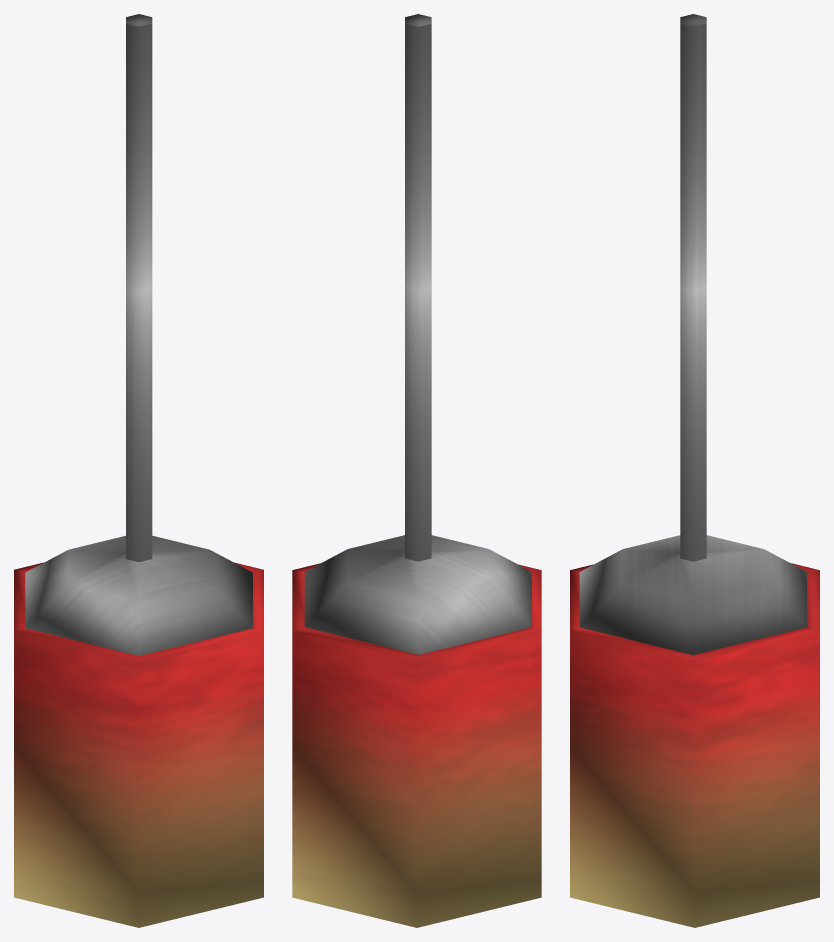
Rendered from Pendant_Light_C.FBX.
3 views of the same model, side by side, from view 1: azimuth 30°, elevation 25°; view 2: azimuth 150°, elevation 25°; view 3: azimuth 270°, elevation 25° (orthographic).
Parts seen in each view (by area): view 1: Pendant light; view 2: Pendant light; view 3: Pendant light.
Part boxes in pixels (bbox=[...]): Pendant light: bbox=[14, 14, 263, 927]; Pendant light: bbox=[292, 14, 541, 927]; Pendant light: bbox=[570, 14, 819, 927].
Size of the model in its own units: 75.21 by 244 by 65.13.
